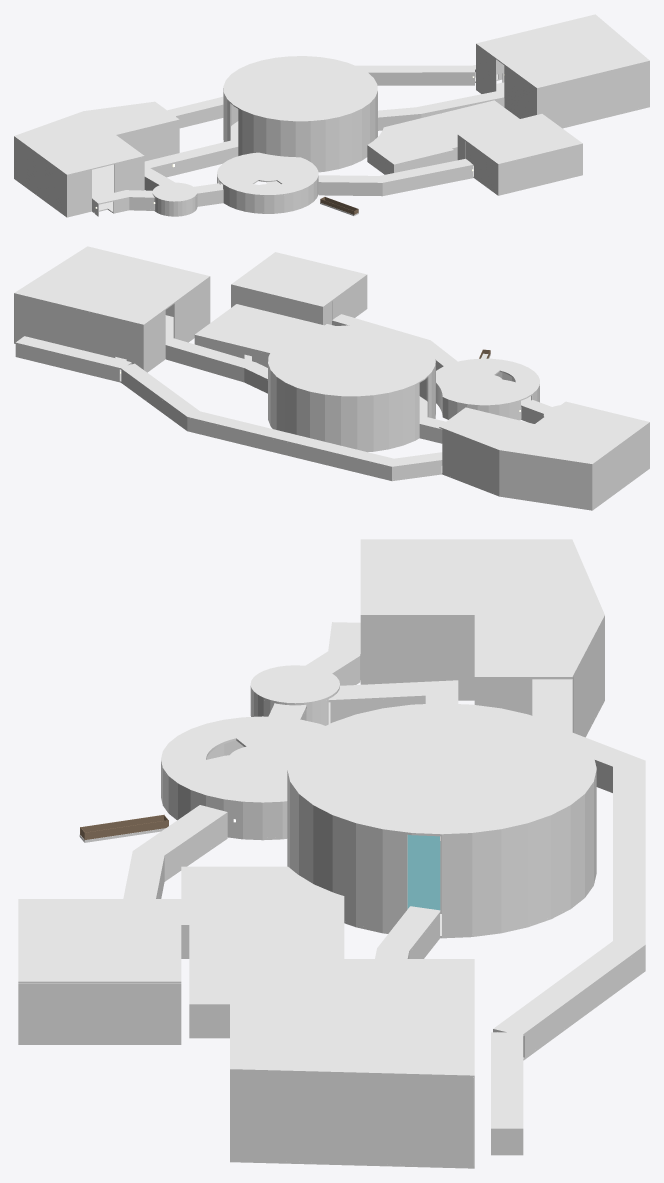
3 renders of one model, top to bottom at view 1: azimuth 30°, elevation 25°; view 2: azimuth 150°, elevation 25°; view 3: azimuth 270°, elevation 25°, orthographic. The views are drawn at different scales.
Parts seen in each view (by area): view 1: b1_ceiling_rock_ceiling, b1_wall_basalt, b1_wall_plaster, b1_floor_stone_floor; view 2: b1_ceiling_rock_ceiling, b1_wall_basalt, b1_wall_plaster, b1_floor_stone_floor; view 3: b1_ceiling_rock_ceiling, b1_wall_basalt, b1_wall_plaster, b1_floor_stone_floor, b1_water_w_mirror, b1_rail_rail.
Part boxes in pixels (box(x1,y1,x2,y2)): b1_ceiling_rock_ceiling: box(14, 14, 649, 204); b1_wall_basalt: box(14, 45, 649, 216); b1_wall_plaster: box(92, 70, 582, 215); b1_floor_stone_floor: box(14, 74, 649, 217); b1_ceiling_rock_ceiling: box(14, 246, 649, 467); b1_wall_basalt: box(14, 277, 649, 509); b1_wall_plaster: box(15, 276, 543, 479); b1_floor_stone_floor: box(14, 308, 649, 510); b1_ceiling_rock_ceiling: box(18, 539, 645, 1130); b1_wall_basalt: box(230, 617, 604, 1166); b1_wall_plaster: box(18, 656, 645, 1152); b1_floor_stone_floor: box(18, 678, 645, 1168); b1_water_w_mirror: box(407, 834, 440, 910); b1_rail_rail: box(80, 814, 168, 840).
Bounding box in the file's own units: 158 × 15.26 × 77.
